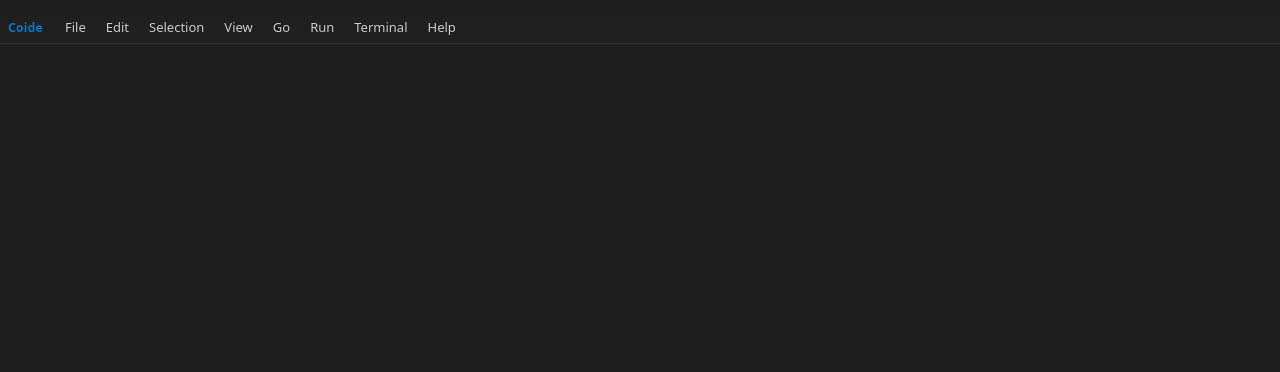
Test: IDE Shell › File menu opens on click
This screenshot has width=1280, height=372.
Click the button "File": (75, 28) [55,16,96,39]
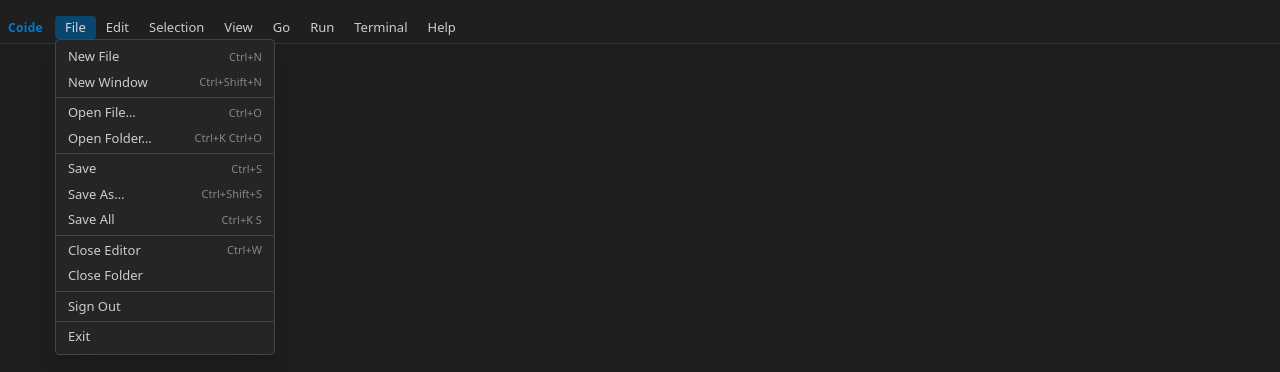
Expected: the text "New File" is shown, [68,47,119,65]
